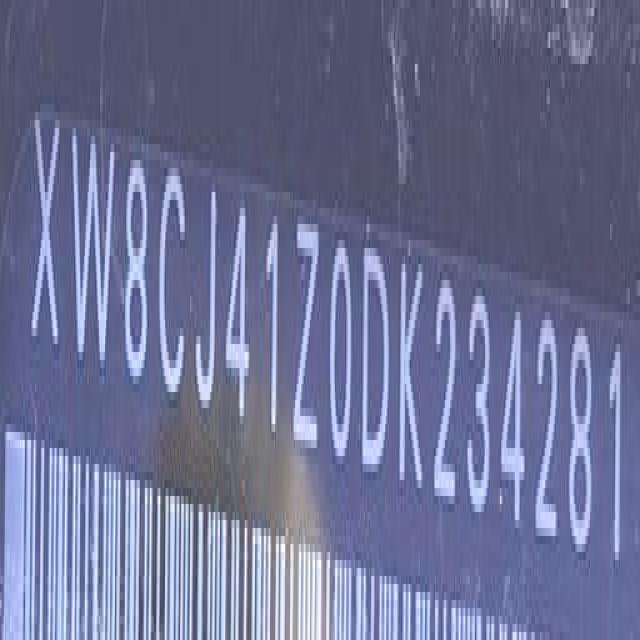0: (327, 240, 355, 477)
1: (262, 205, 283, 462), (607, 329, 625, 587)
2: (432, 266, 458, 518), (535, 302, 561, 551)
3: (467, 288, 490, 528)
4: (224, 202, 252, 438), (499, 308, 526, 530)
8: (123, 151, 150, 397), (568, 311, 592, 569)
C: (158, 154, 189, 412)
D: (359, 237, 389, 483)
J: (192, 178, 219, 421)
K: (397, 254, 425, 506)
W: (71, 113, 118, 379)
X: (30, 104, 61, 367)
Z: (291, 216, 320, 471)
